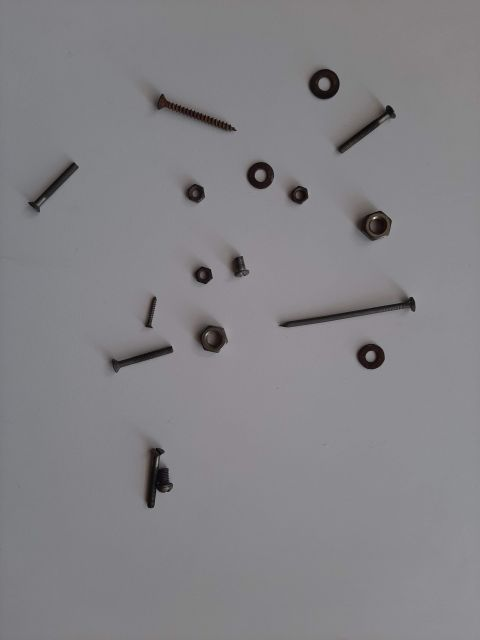gwozdz: (275, 275, 425, 325)
nakretka: (185, 305, 245, 355), (355, 185, 395, 245), (275, 175, 325, 215), (185, 155, 215, 215), (185, 245, 215, 295)
podkladka: (335, 325, 395, 385), (215, 155, 275, 205), (295, 65, 355, 105)
sruba: (5, 135, 95, 215), (65, 325, 185, 385), (325, 95, 415, 155), (125, 425, 175, 505), (215, 235, 265, 275)
